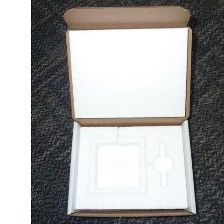foam_box: (66, 24, 191, 121), (71, 121, 191, 213)
